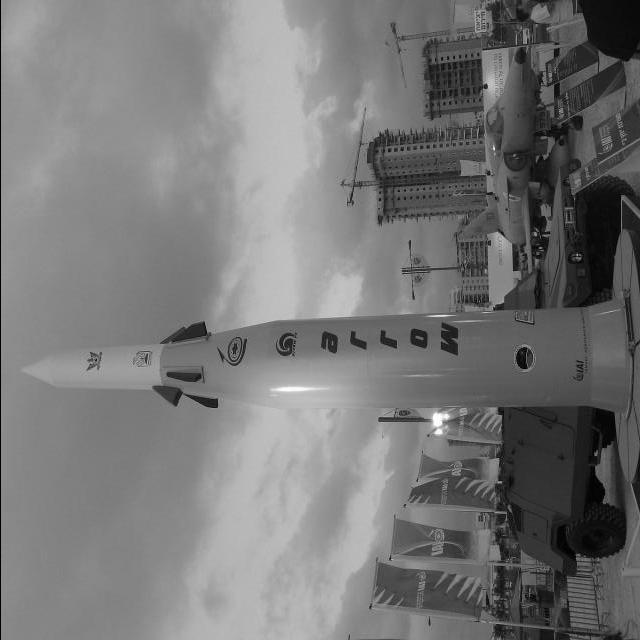Missile: (16, 298, 632, 416)
